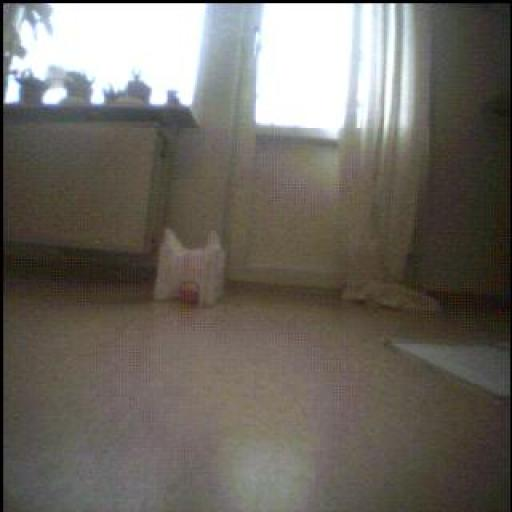Basket: (180, 283, 201, 307)
